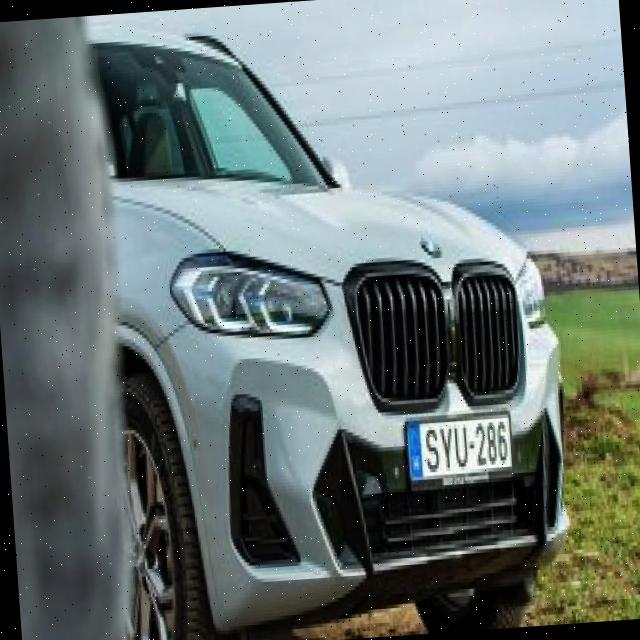licence: (402, 409, 517, 488)
